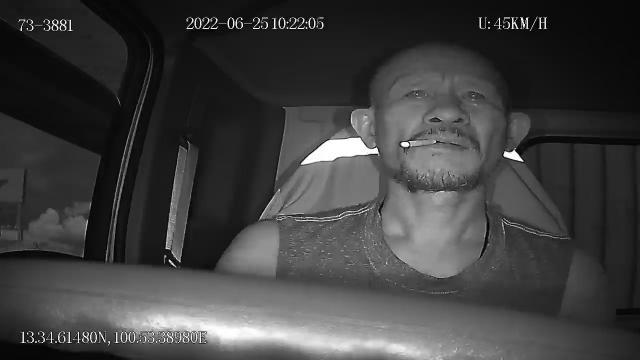SafeDriving: (396, 79, 437, 106), (454, 82, 492, 110)
Smoking: (401, 139, 435, 149)
